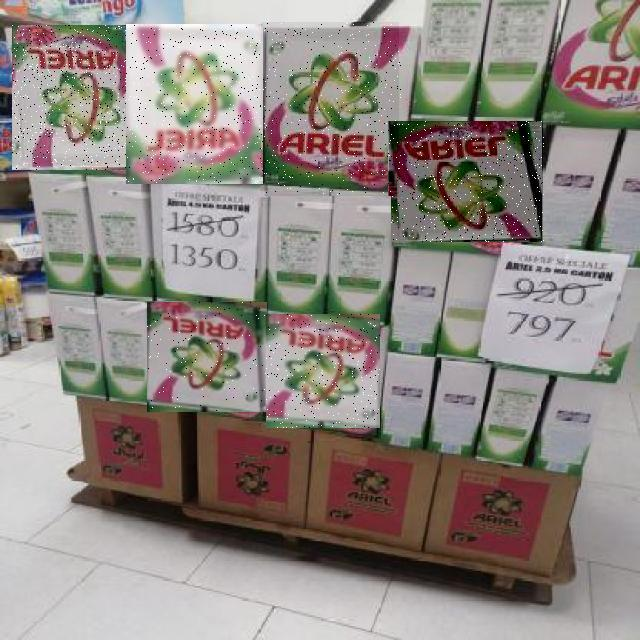Detergent: (262, 22, 402, 196), (126, 24, 266, 184), (12, 25, 142, 170), (392, 121, 546, 242), (147, 302, 267, 412), (266, 314, 380, 428)
